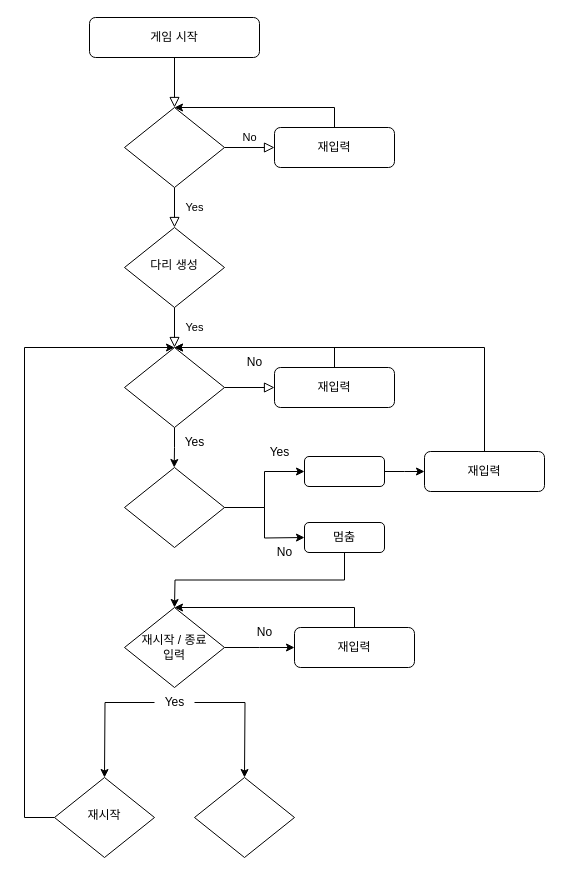
Some shapes in this 562 by 875 pixel diagram are drawn without their labels. The shapes that lost their labels are listed below. From the top down, each one's centre as x and y in pixels, then its label:
At point (174, 147): "다리 길이 입력".
At point (174, 387): "이동할 칸 입력".
At point (344, 471): "앞으로 이동".
At point (174, 507): "다리와 비교".
At point (244, 817): "종료".
